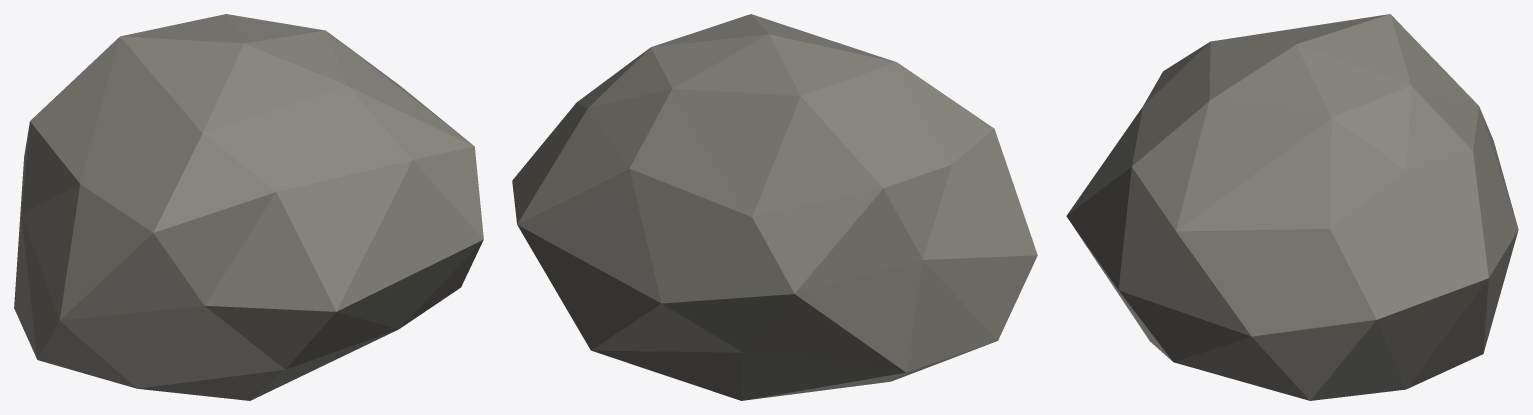
File: SM_Rock_Large.glb
The picture shows the model from 3 angles, left to right: view 1: azimuth 30°, elevation 25°; view 2: azimuth 150°, elevation 25°; view 3: azimuth 270°, elevation 25°; orthographic projection.
Visible parts, largest first — view 1: SM_Rock_Large; view 2: SM_Rock_Large; view 3: SM_Rock_Large.
Boxes of the visible parts, x1,y1,x2,y2 form: SM_Rock_Large: [14, 14, 483, 400]; SM_Rock_Large: [512, 14, 1037, 400]; SM_Rock_Large: [1066, 14, 1518, 400].
Bounding box in the file's own units: 1.39 × 0.8982 × 1.22.
Materials: 1 (1 with a texture image).
